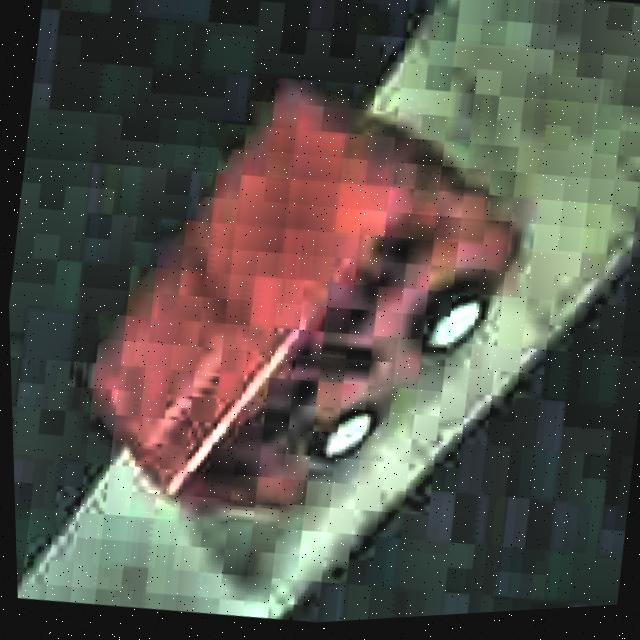bus: (58, 48, 554, 562)
